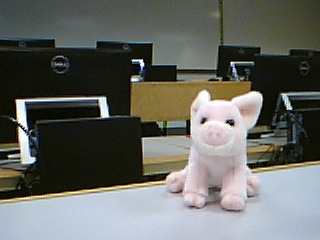piggy: (164, 87, 264, 213)
